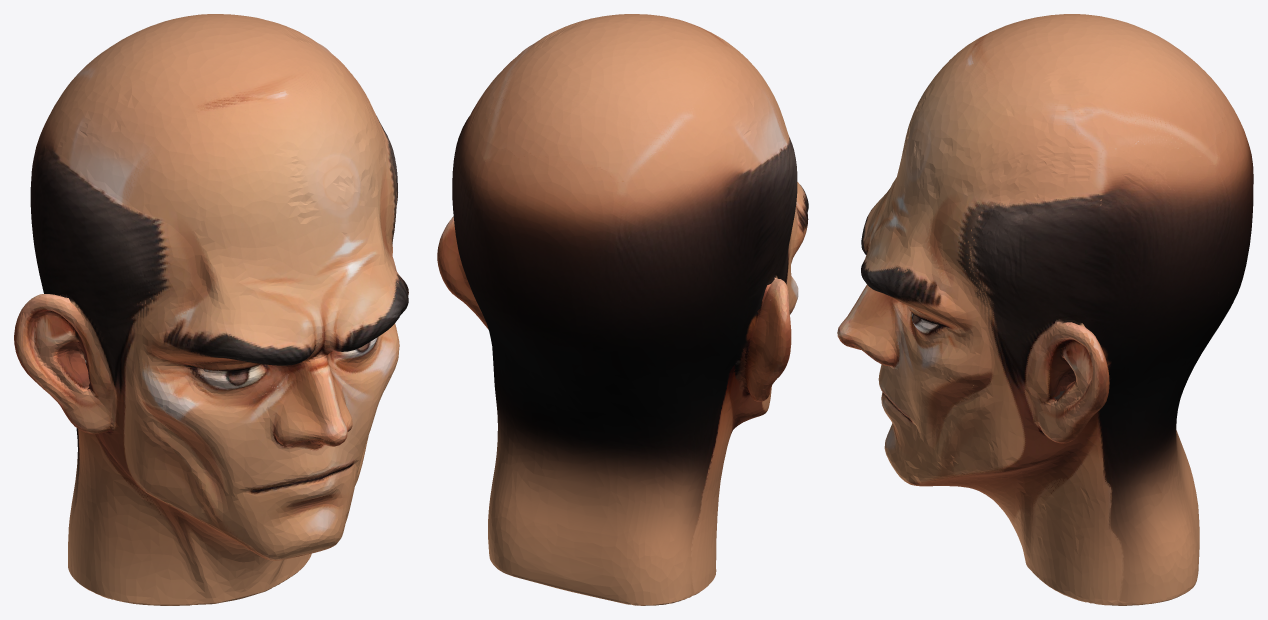
Rendered from side_censormonk_repaired_atlas.glb.
3 views of the same model, side by side, from view 1: azimuth 30°, elevation 25°; view 2: azimuth 150°, elevation 25°; view 3: azimuth 270°, elevation 25° (orthographic). The views are drawn at different scales.
Visible parts, largest first — view 1: temp_mesh.ply; view 2: temp_mesh.ply; view 3: temp_mesh.ply.
Boxes of the visible parts, bbox=[...] form: temp_mesh.ply: bbox=[14, 14, 408, 605]; temp_mesh.ply: bbox=[437, 14, 808, 605]; temp_mesh.ply: bbox=[837, 14, 1253, 605].
Size of the model in its own units: 0.9534 by 1.33 by 0.9578.
Materials: 1 (1 with a texture image).
